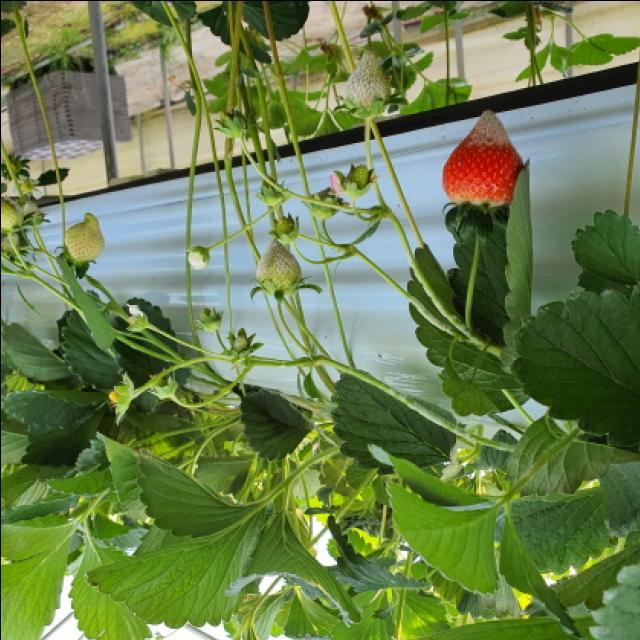Powdery Mildew Fruit: (441, 106, 525, 206), (342, 47, 390, 116), (255, 233, 301, 299)
